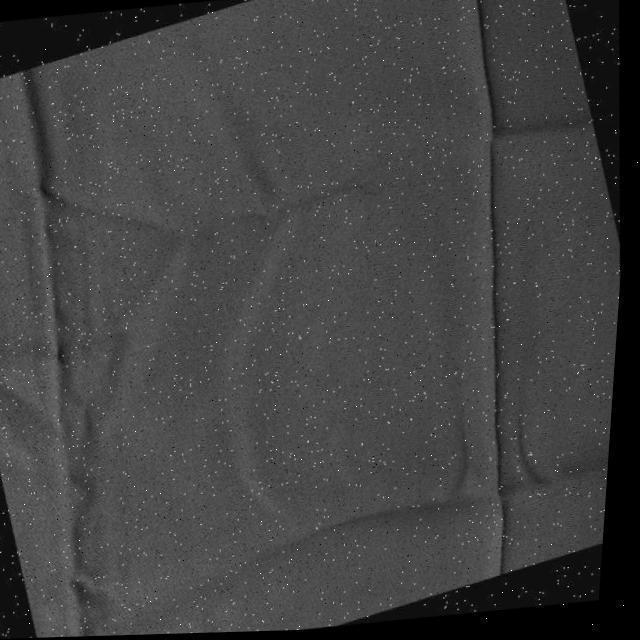broken_yarn: (18, 73, 102, 638), (468, 0, 522, 575)
